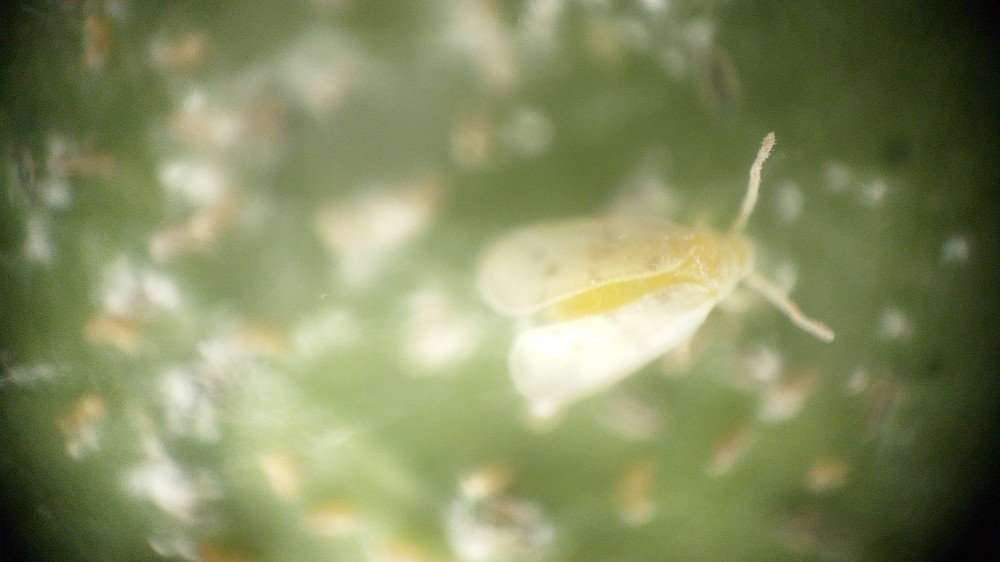Mosca Blanca: (473, 130, 854, 411)
